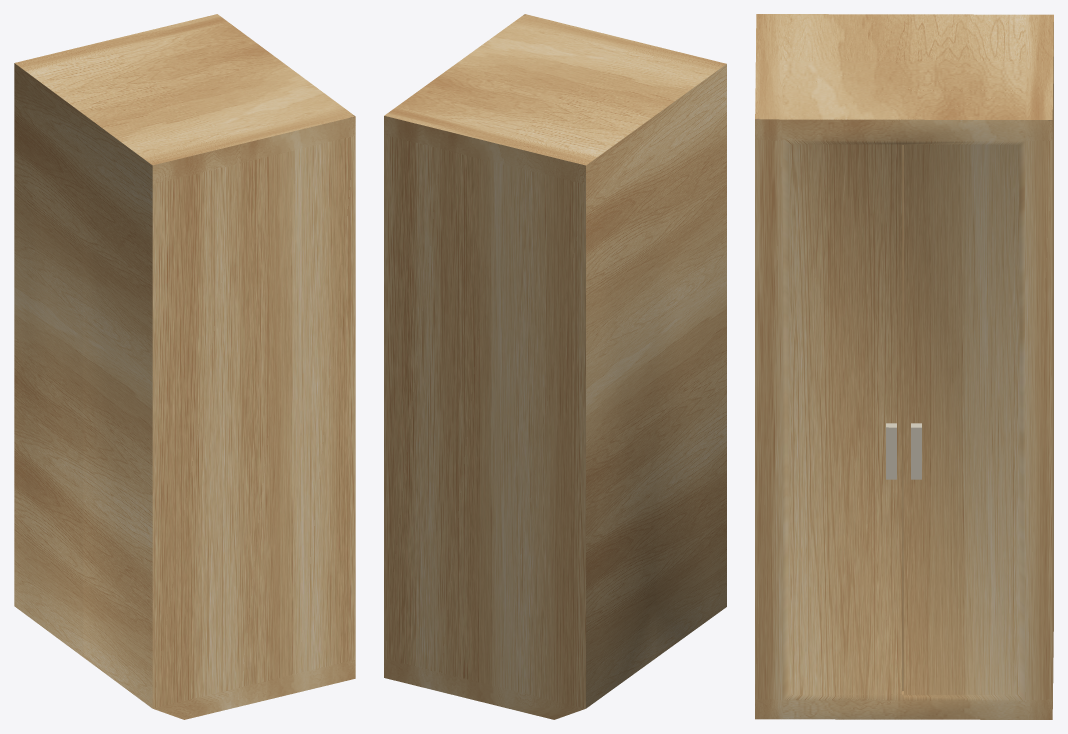
File: Closet4.fbx
3 views of the same model, side by side, from view 1: azimuth 30°, elevation 25°; view 2: azimuth 150°, elevation 25°; view 3: azimuth 270°, elevation 25° (orthographic). The views are drawn at different scales.
Parts seen in each view (by area): view 1: Box002; view 2: Box002; view 3: Box002, Ручки001.
Boxes of the visible parts, <box> form: Box002: <box>14,14,355,719</box>; Box002: <box>384,14,726,719</box>; Box002: <box>755,14,1053,719</box>; Ручки001: <box>886,423,921,479</box>.
Bounding box in the file's own units: 733 × 1862 × 841.
2 materials, 1 textured.
